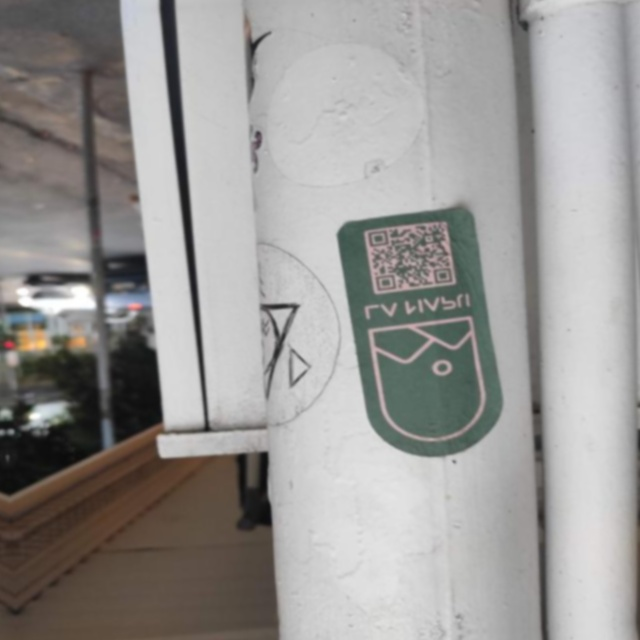qr-code: (368, 223, 453, 292)
